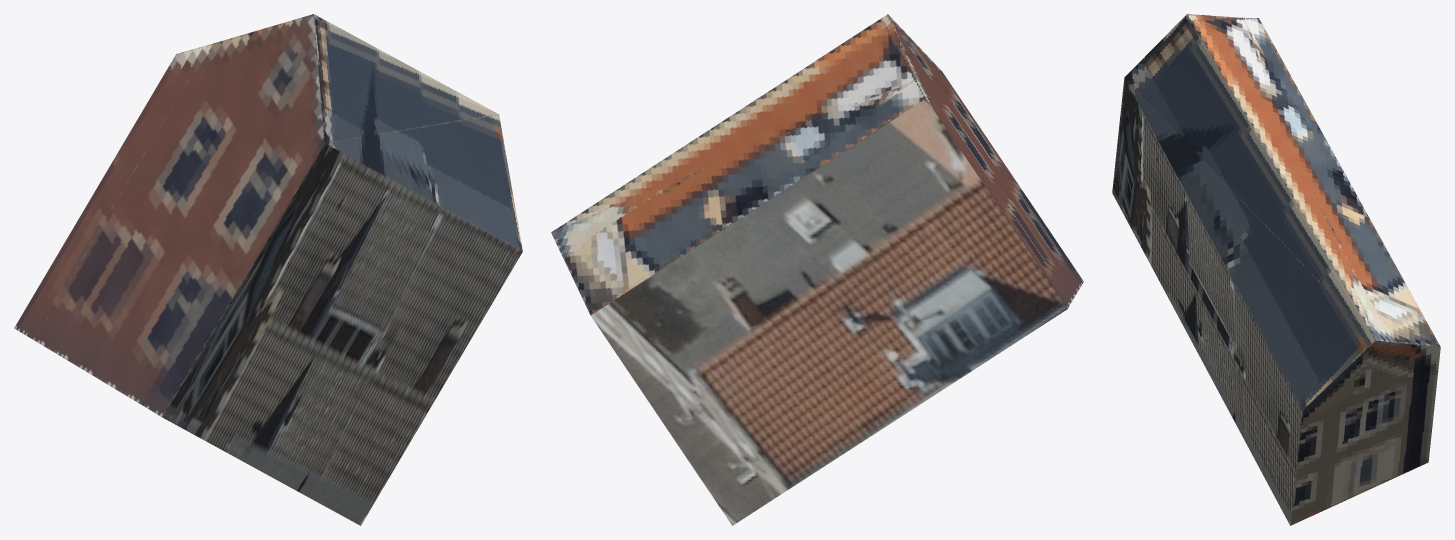
3 views of the same model, side by side, from view 1: azimuth 30°, elevation 25°; view 2: azimuth 150°, elevation 25°; view 3: azimuth 270°, elevation 25° (orthographic). The views are drawn at different scales.
Visible parts, largest first — view 1: BAG_0599100000656923 (×3); view 2: BAG_0599100000656923 (×3); view 3: BAG_0599100000656923 (×3).
Boxes of the visible parts, x1,y1,x2,y2 form: BAG_0599100000656923 (×3): (14,14,522,525); BAG_0599100000656923 (×3): (551,14,1083,525); BAG_0599100000656923 (×3): (1112,14,1440,525).
Bounding box in the file's own units: 15.77 × 15.62 × 9.93.
3 materials, 3 textured.
